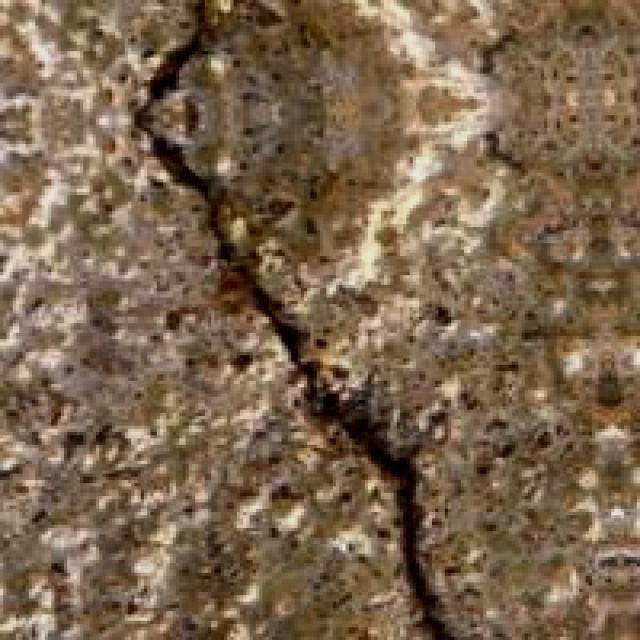crack: (108, 0, 484, 640)
